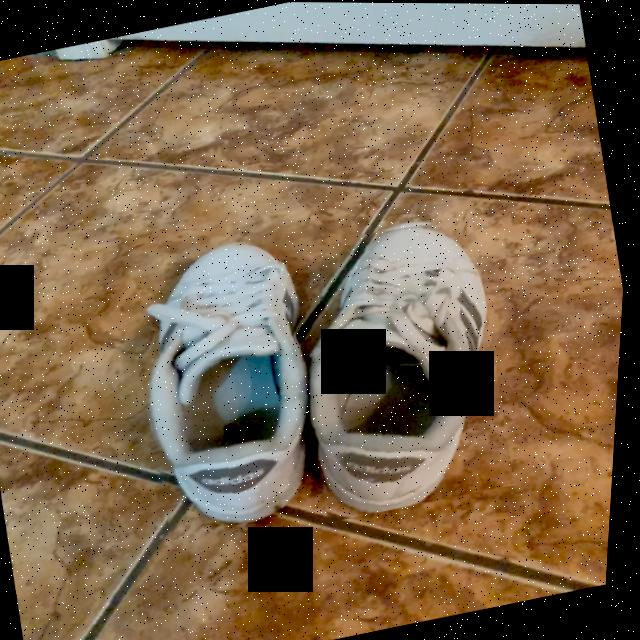shoe: (315, 225, 492, 514), (153, 244, 316, 525)
